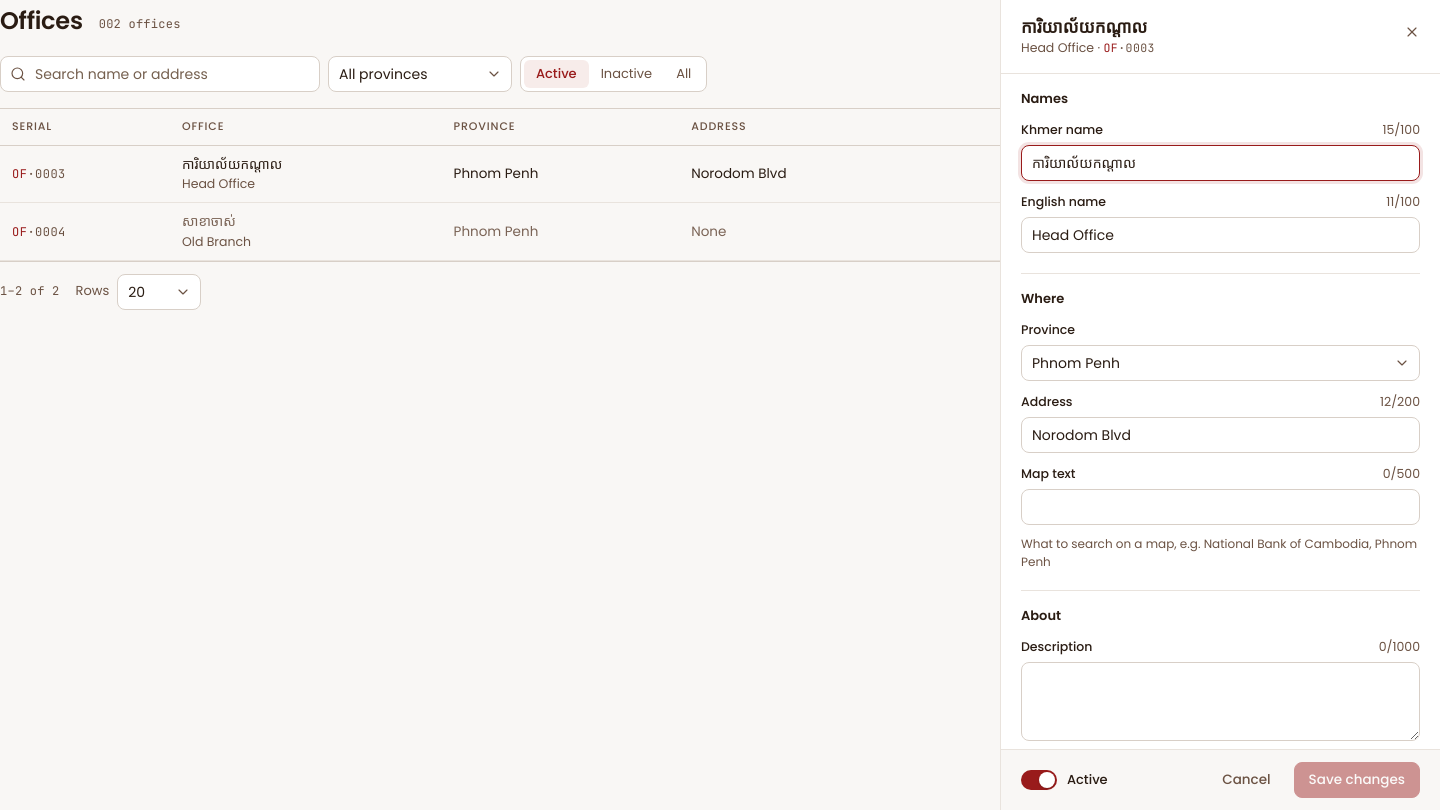
Test: OfficesView › will not turn off while the form has unsaved changes, and says why
Replace the text in the field with id "name_en" with "Head Office 2" at (1220, 235), box [1021,217,1420,253]
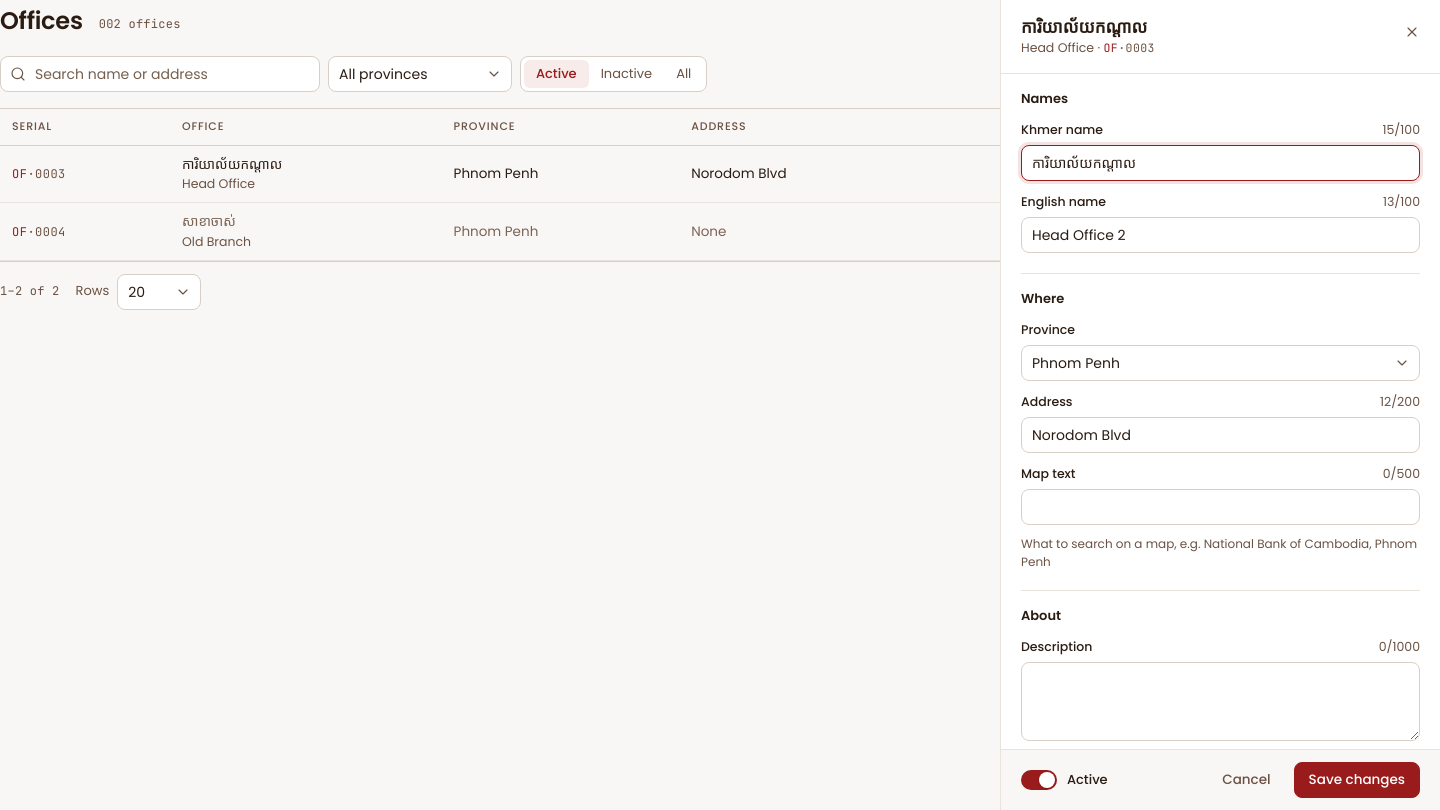
Click the switch named "Active" at (1039, 780), box [1021,770,1057,790]
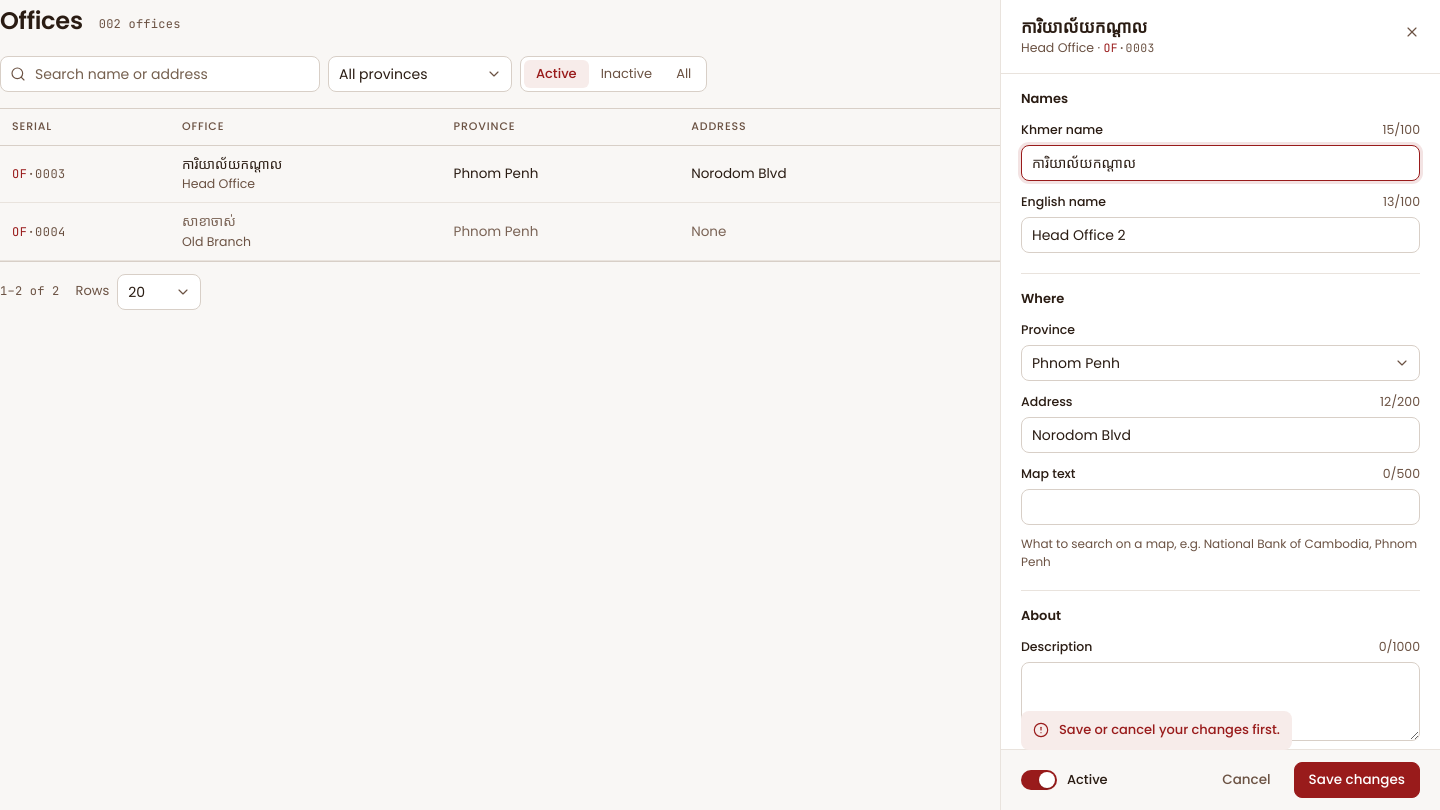
expect the message "Save or cancel your changes first." is shown: met, box [1021,711,1292,750]
